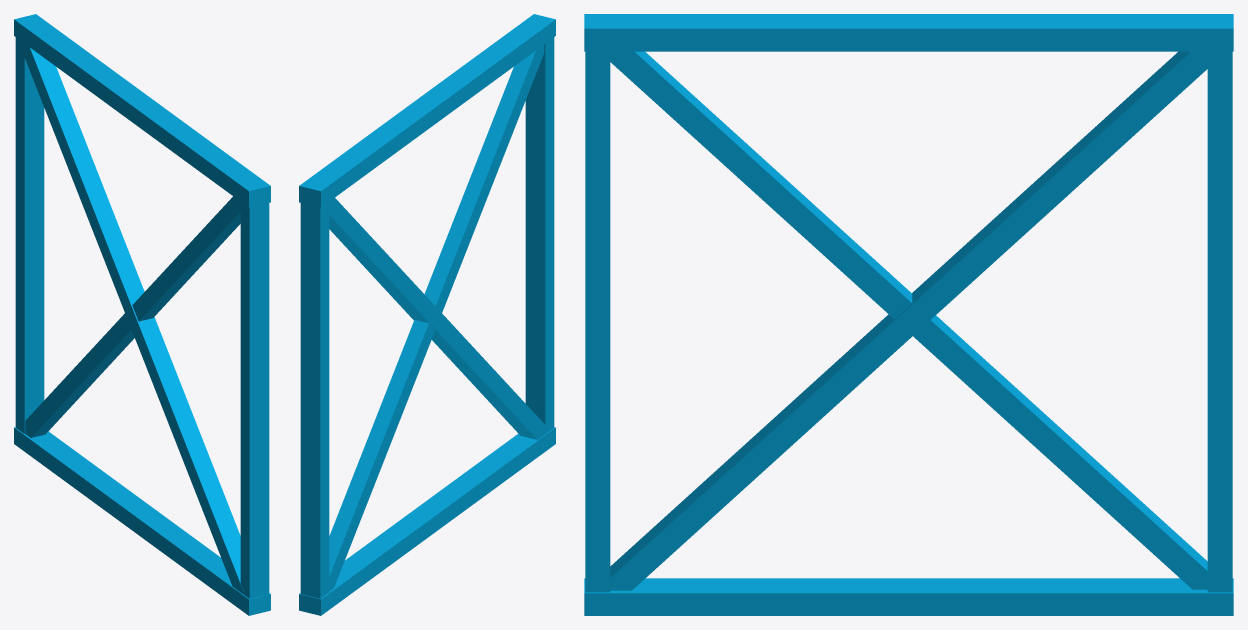
The model's file is Metal_Square.fbx.
3 views of the same model, side by side, from view 1: azimuth 30°, elevation 25°; view 2: azimuth 150°, elevation 25°; view 3: azimuth 270°, elevation 25° (orthographic). The views are drawn at different scales.
Parts seen in each view (by area): view 1: Metal_Square; view 2: Metal_Square; view 3: Metal_Square.
Boxes of the visible parts, x1,y1,x2,y2 form: Metal_Square: (14,14,270,615); Metal_Square: (299,14,555,615); Metal_Square: (584,14,1233,615).
Bounding box in the file's own units: 16.2 × 299 × 300.
